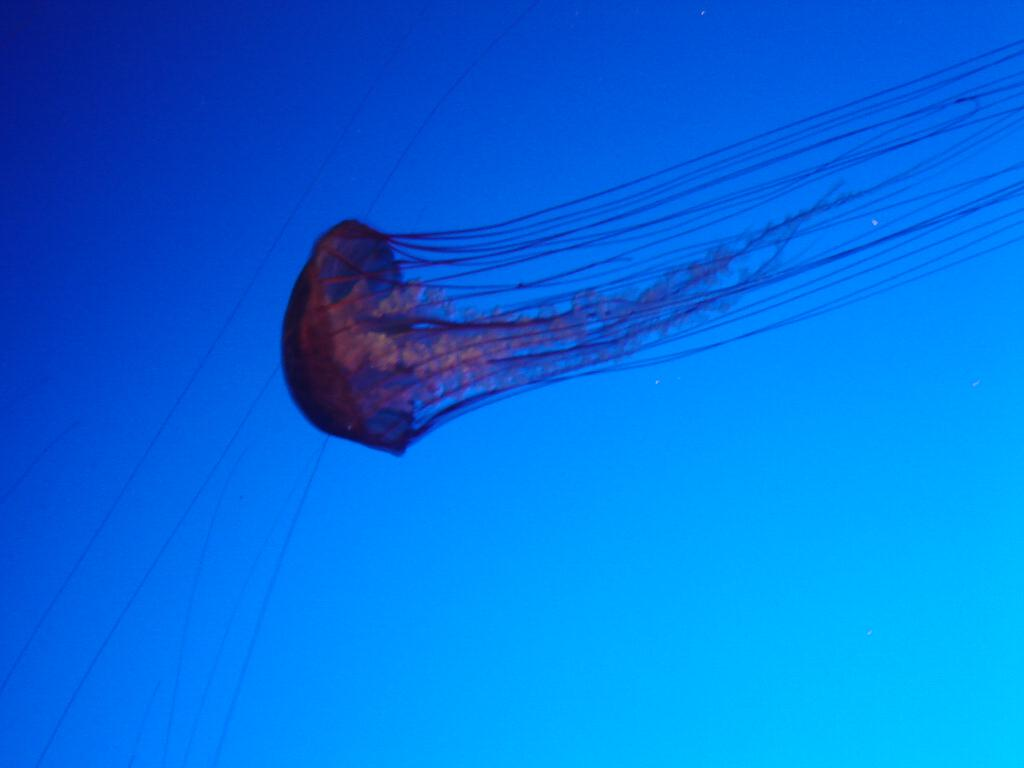Jellyfish: (278, 38, 1023, 459)
